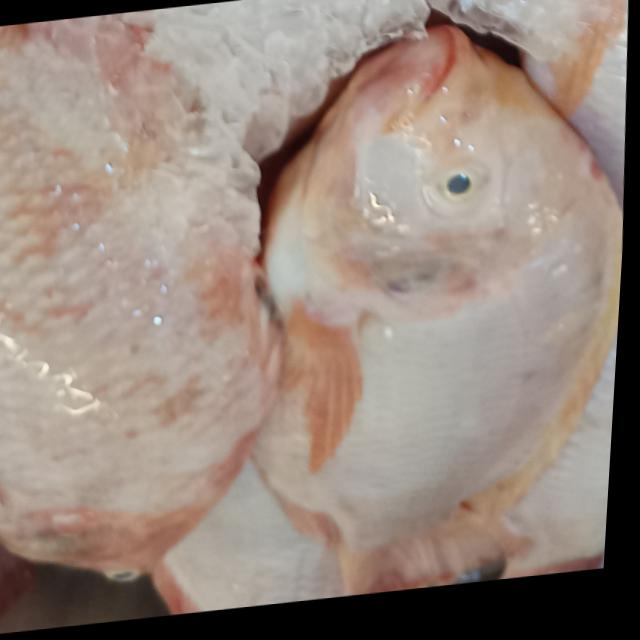Tilapia: (226, 0, 637, 607)
